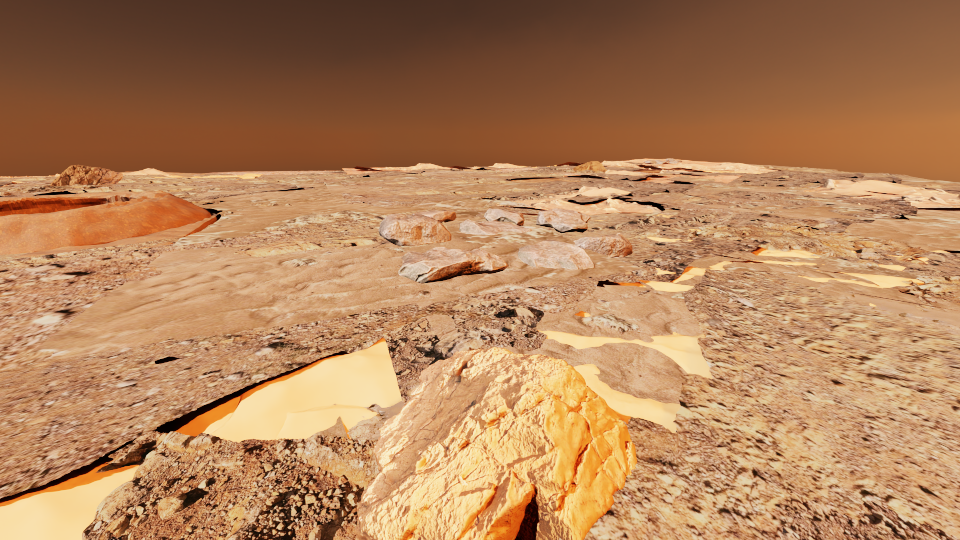bedrock: (82, 297, 546, 539), (586, 205, 959, 414), (325, 165, 698, 198), (780, 491, 959, 539), (0, 180, 314, 204), (700, 190, 917, 219), (658, 165, 902, 188), (208, 233, 390, 256), (233, 320, 324, 338), (665, 197, 742, 207), (432, 178, 517, 184), (222, 170, 348, 174), (911, 184, 959, 194), (560, 194, 607, 202), (522, 216, 548, 228), (118, 180, 192, 184), (0, 177, 53, 181), (439, 221, 461, 230), (605, 167, 642, 171), (376, 180, 414, 183), (638, 288, 654, 295), (0, 256, 18, 260), (678, 178, 714, 180), (256, 203, 277, 206), (218, 210, 228, 216), (0, 192, 13, 196), (122, 177, 170, 178)
rocks: (355, 347, 635, 539), (518, 233, 632, 269), (398, 247, 507, 283), (378, 210, 456, 245), (459, 208, 531, 234), (50, 165, 122, 185), (536, 208, 589, 232), (573, 161, 606, 171), (643, 158, 681, 164)
sand: (27, 226, 640, 360), (504, 247, 933, 432), (172, 176, 580, 246), (155, 338, 401, 442), (691, 196, 959, 253), (0, 438, 138, 539), (693, 184, 862, 197), (620, 159, 722, 167), (193, 188, 280, 197), (426, 315, 456, 339), (631, 174, 695, 184), (927, 297, 959, 314), (689, 174, 742, 182), (897, 180, 959, 186), (200, 174, 281, 178), (489, 200, 529, 208), (152, 172, 204, 177), (340, 168, 381, 173), (155, 356, 180, 363), (647, 236, 679, 241), (362, 227, 379, 233), (656, 268, 672, 273), (915, 257, 927, 263)
soil: (0, 191, 498, 498), (584, 269, 959, 539), (534, 187, 789, 226), (475, 272, 625, 312), (96, 171, 350, 189), (340, 168, 561, 187), (340, 191, 539, 207), (612, 238, 669, 264), (666, 174, 740, 185), (911, 194, 959, 210), (764, 165, 854, 173), (546, 228, 595, 240), (862, 173, 935, 180), (804, 180, 846, 191), (496, 203, 540, 213), (398, 207, 453, 214), (0, 181, 52, 187), (500, 199, 538, 206), (471, 200, 495, 210), (669, 167, 721, 171), (632, 166, 660, 173), (372, 188, 410, 192), (406, 168, 439, 172), (123, 174, 166, 177), (654, 228, 679, 233), (0, 176, 57, 178), (924, 188, 946, 192), (463, 167, 487, 170), (559, 175, 588, 177), (874, 196, 893, 199), (945, 187, 959, 191), (474, 212, 485, 217), (680, 227, 698, 230)
